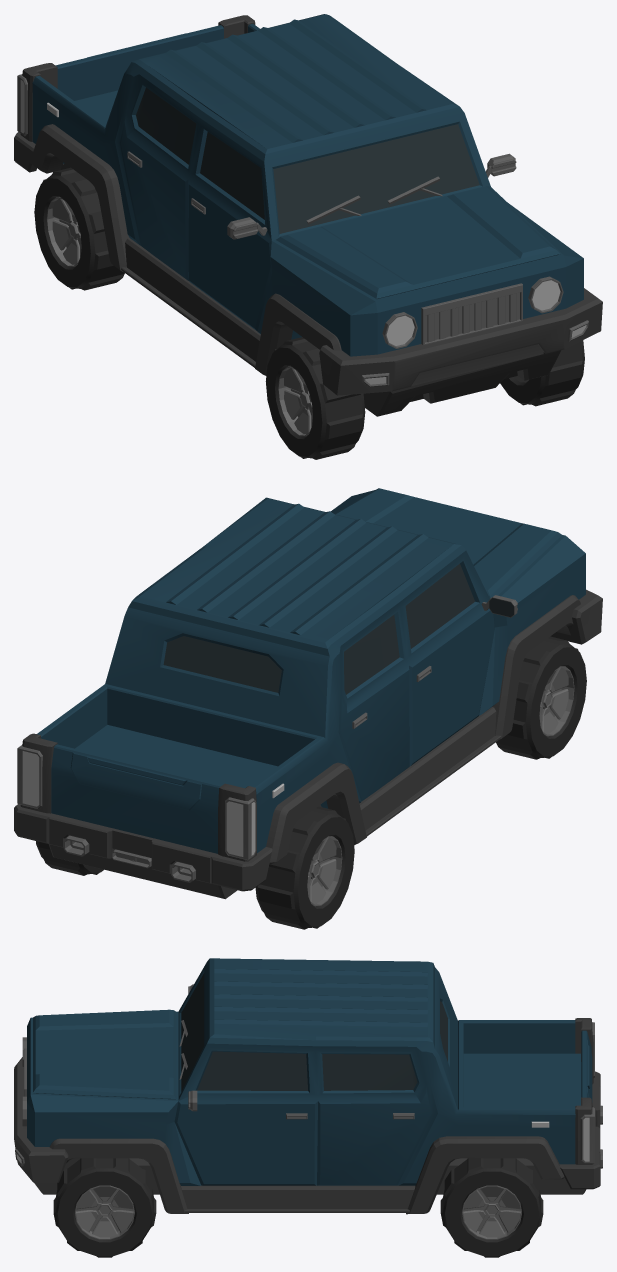
Rendered from car_06.glb.
3 renders of one model, top to bottom at view 1: azimuth 30°, elevation 25°; view 2: azimuth 150°, elevation 25°; view 3: azimuth 270°, elevation 25°, orthographic. The views are drawn at different scales.
Visible parts, largest first — view 1: car_06; view 2: car_06; view 3: car_06.
Boxes of the visible parts, x1,y1,x2,y2 form: car_06: [14, 14, 602, 459]; car_06: [14, 488, 602, 929]; car_06: [14, 958, 602, 1257].
Size of the model in its own units: 2.38 by 2.02 by 5.09.
Materials: 1 (1 with a texture image).
